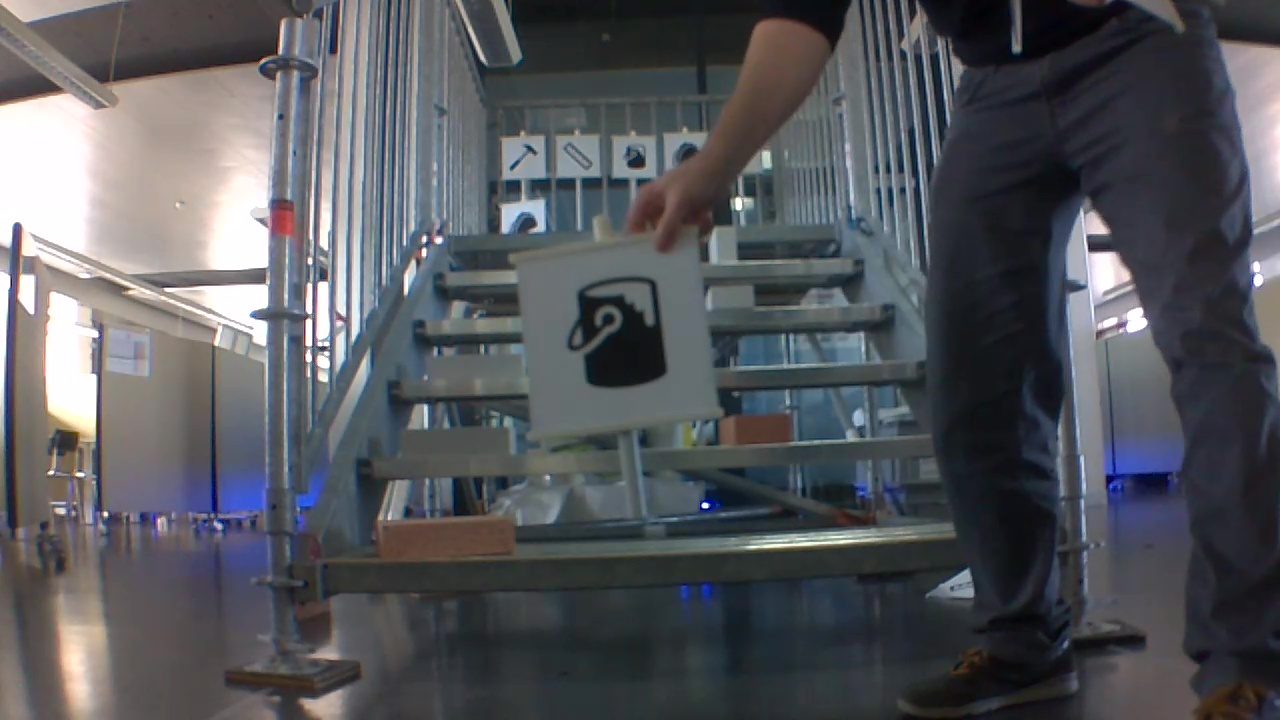brick: (374, 515, 516, 559), (399, 426, 515, 459), (423, 353, 524, 384), (721, 413, 794, 445), (703, 286, 756, 310), (711, 225, 737, 262)
bucket: (567, 269, 666, 402), (618, 143, 645, 169)
edge: (325, 529, 962, 594)
hammer: (508, 144, 539, 173)
ruler: (566, 140, 594, 173)
taco: (508, 207, 541, 233), (676, 140, 699, 165)
